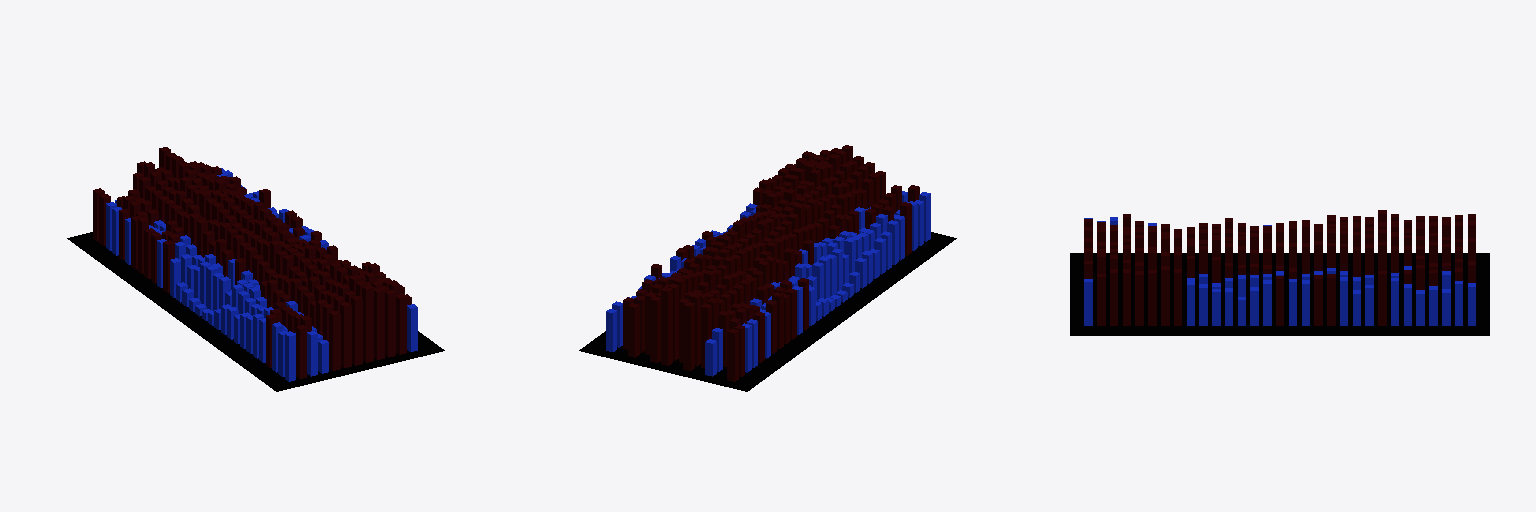
File: bar_model.obj
3 views of the same model, side by side, from view 1: azimuth 30°, elevation 25°; view 2: azimuth 150°, elevation 25°; view 3: azimuth 270°, elevation 25° (orthographic).
Parts seen in each view (by area): view 1: Plane, bar_2020-8-1_Cube.11222, bar_2020-9-1_Cube.11253, bar_2020-7-1_Cube.11191, bar_2020-10-1_Cube.11283, bar_2020-6-1_Cube.11161, bar_2020-5-1_Cube.11130, bar_2020-11-1_Cube.11314, bar_2020-2-1_Cube.11040, bar_2020-1-1_Cube.11009; view 2: Plane, bar_2020-7-31_Cube.11221, bar_2020-5-31_Cube.11160, bar_2020-8-31_Cube.11252, bar_2020-10-31_Cube.11313, bar_2020-1-31_Cube.11039; view 3: Plane, bar_2020-12-7_Cube.11350.
Part boxes in pixels (bbox=[...]): Plane: bbox=[67, 232, 444, 391]; bar_2020-8-1_Cube.11222: bbox=[362, 285, 373, 362]; bar_2020-9-1_Cube.11253: bbox=[374, 288, 384, 359]; bar_2020-7-1_Cube.11191: bbox=[351, 296, 362, 365]; bar_2020-10-1_Cube.11283: bbox=[385, 290, 395, 357]; bar_2020-6-1_Cube.11161: bbox=[340, 302, 351, 367]; bar_2020-5-1_Cube.11130: bbox=[329, 311, 340, 370]; bar_2020-11-1_Cube.11314: bbox=[396, 294, 406, 354]; bar_2020-2-1_Cube.11040: bbox=[296, 325, 306, 378]; bar_2020-1-1_Cube.11009: bbox=[285, 332, 295, 381]; Plane: bbox=[579, 232, 956, 391]; bar_2020-7-31_Cube.11221: bbox=[661, 287, 672, 365]; bar_2020-5-31_Cube.11160: bbox=[683, 302, 694, 370]; bar_2020-8-31_Cube.11252: bbox=[650, 296, 660, 362]; bar_2020-10-31_Cube.11313: bbox=[628, 303, 639, 357]; bar_2020-1-31_Cube.11039: bbox=[727, 329, 738, 381]; Plane: bbox=[1070, 253, 1489, 335]; bar_2020-12-7_Cube.11350: bbox=[1161, 266, 1169, 325].
Bounding box in the file's own units: 22.9 × 10 × 49.35.